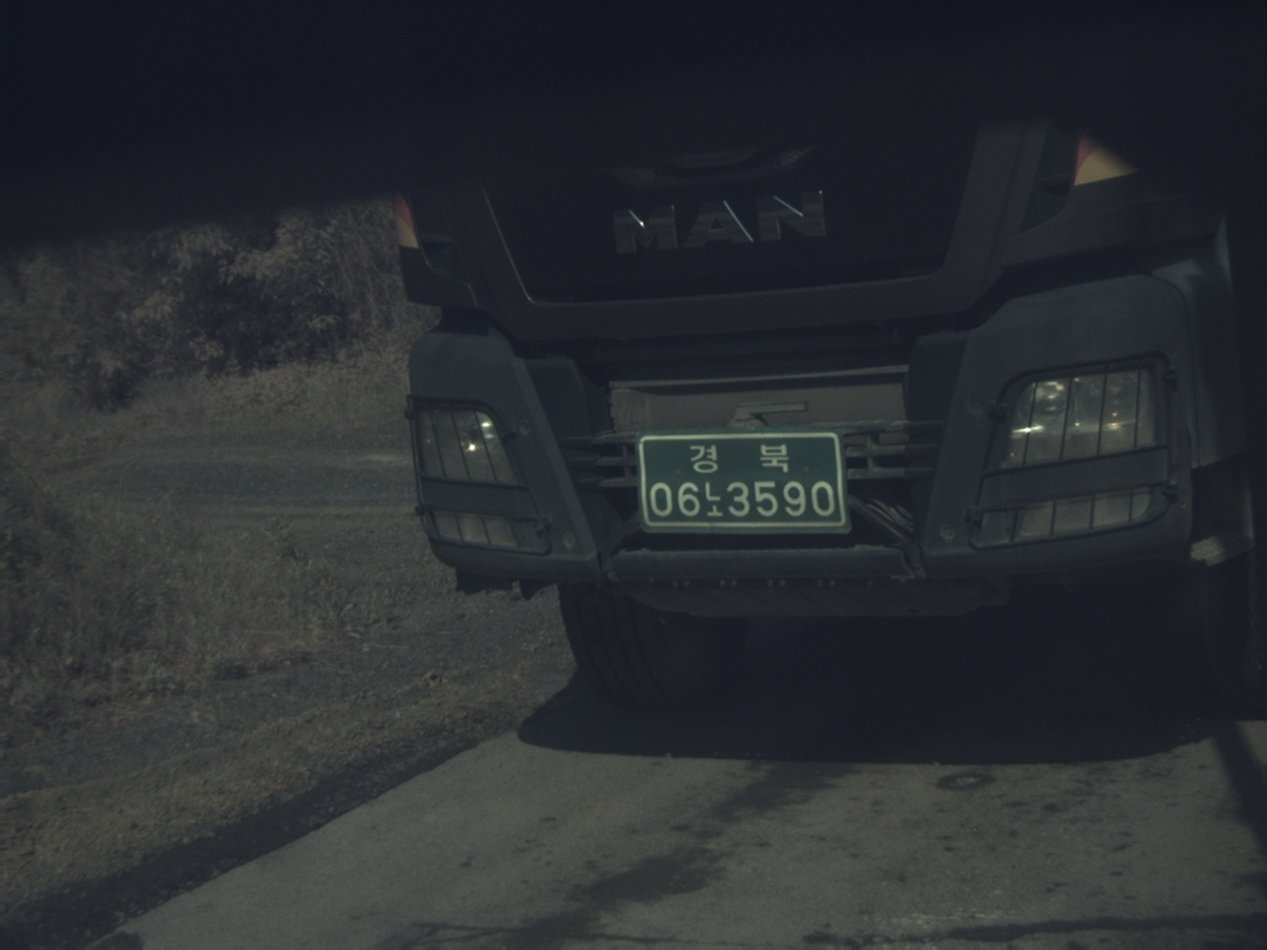license_plate: (638, 429, 849, 531)
truck: (396, 115, 1262, 707)
